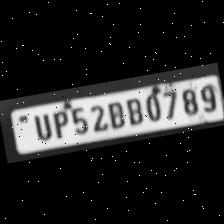0: (140, 88, 162, 122)
2: (85, 99, 108, 133)
5: (64, 101, 89, 135)
7: (157, 86, 180, 120)
8: (175, 82, 201, 116)
9: (194, 78, 219, 112)
B: (120, 92, 146, 126)
D: (102, 96, 125, 129)
P: (48, 106, 70, 139)
U: (26, 108, 54, 140)
